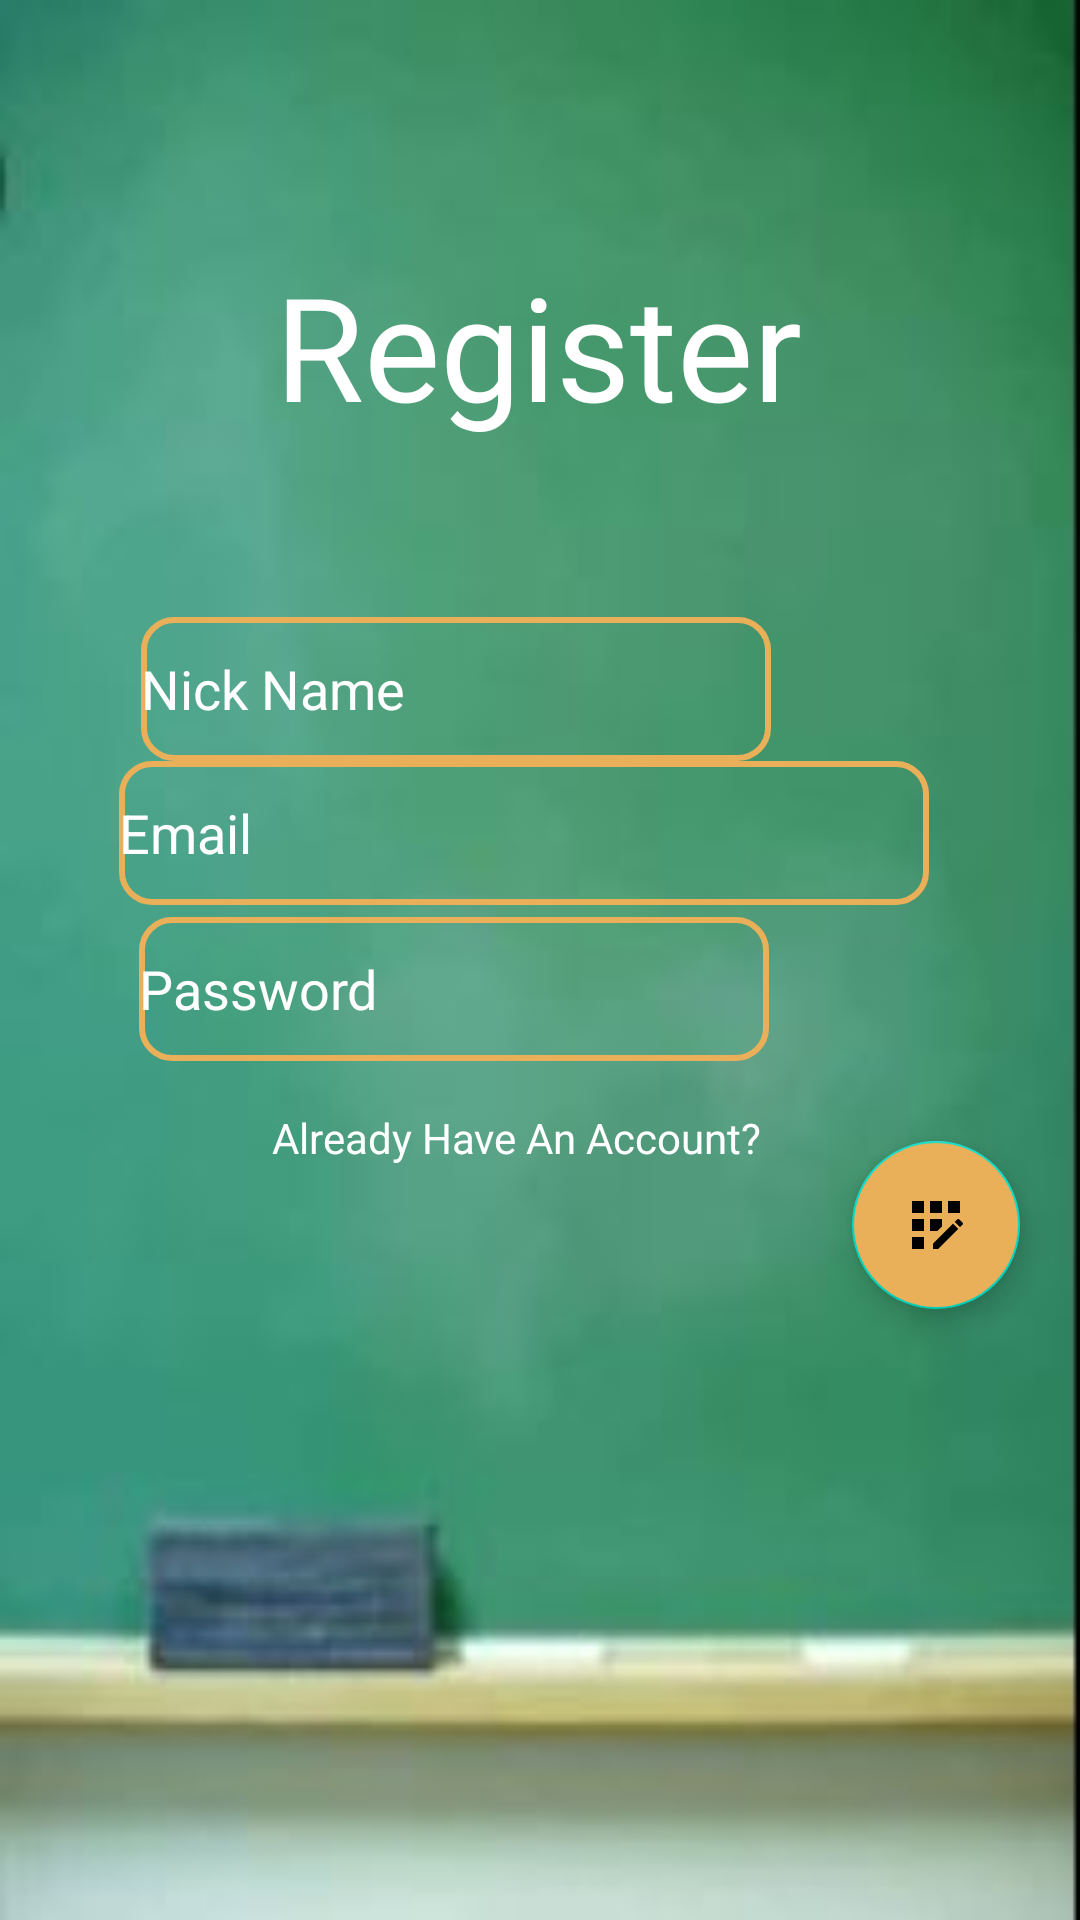

Screen size 1080w x 1920h. Icon name, then its center in pixels as [x,y]:
fab register: [936,1225]
